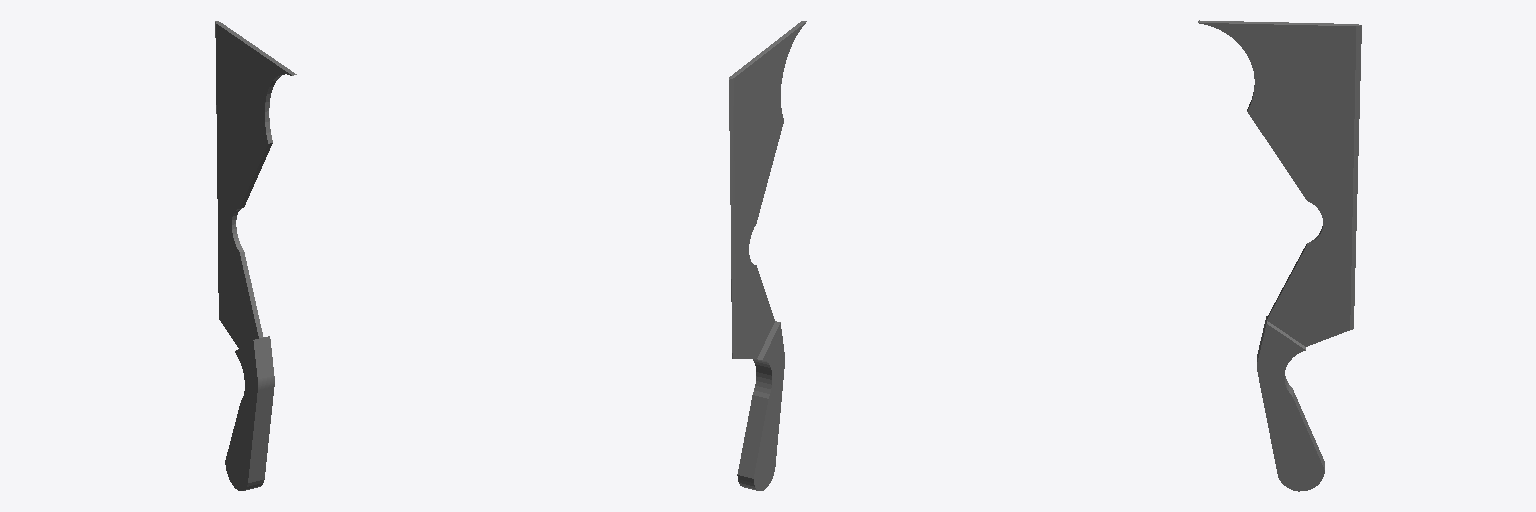
URDF robot description (object):
<?xml version="1.0"?>
<robot name="object">
  <link name="object">
    <visual>
      <origin xyz="0 0 0"/>
      <geometry>
        <mesh
          filename="../../mesh/oakink_virtual/knife_s321.stl" />
      </geometry>
      <material name="mat">
        <color rgba="0.5 0.5 0.5 1"/>
      </material>
    </visual>

    <collision>
      <origin xyz="0 0 0"/>
      <geometry>
        <mesh
          filename="../../mesh/oakink_virtual/knife_s321.stl" />
      </geometry>
    </collision>
  </link>
</robot>

--- Render facts (derived) ---
Views: 3 orthographic renders of the robot side by side, from view 1: azimuth 30°, elevation 25°; view 2: azimuth 150°, elevation 25°; view 3: azimuth 270°, elevation 25°.
Robot: object — 1 links, 0 joints (none); root link object; default pose: all joints at 0.
Visible links, largest first — view 1: object; view 2: object; view 3: object.
Boxes of the visible links, x1,y1,x2,y2 form: object: (215, 21, 296, 490); object: (729, 21, 806, 490); object: (1198, 20, 1361, 491).
Bounding box of the posed robot: 0.008 × 0.0654 × 0.2049 m (x, y, z).
Meshes: 1 distinct files referenced, 1 mesh visuals loaded (1 binary STL).